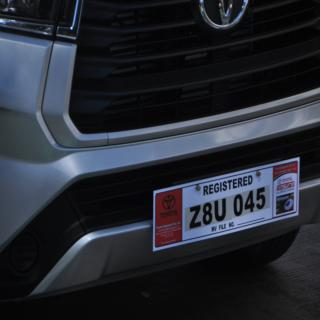license: (154, 158, 300, 252)
